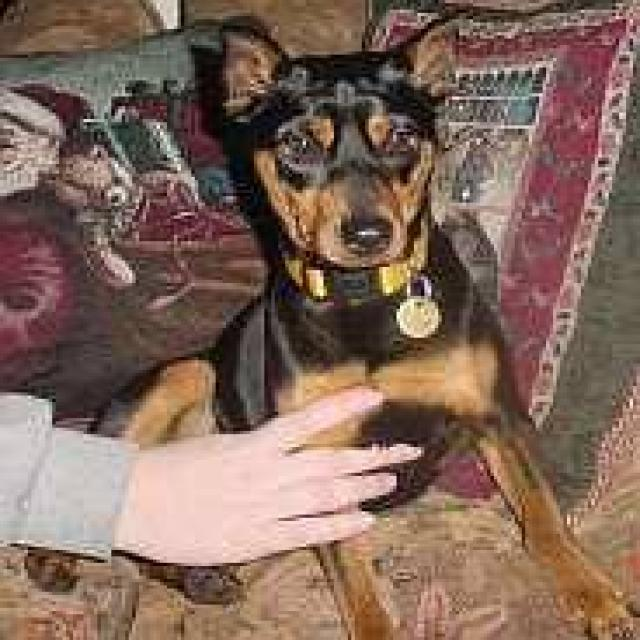dog: (94, 13, 636, 637)
